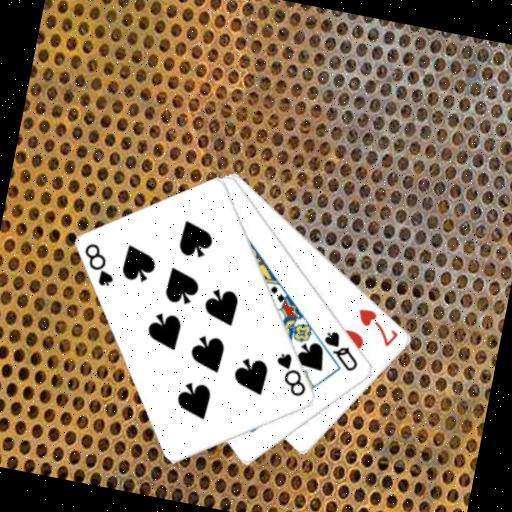7H: (350, 304, 404, 350)
8S: (268, 348, 314, 400), (76, 238, 122, 290)
QS: (317, 326, 366, 374)
